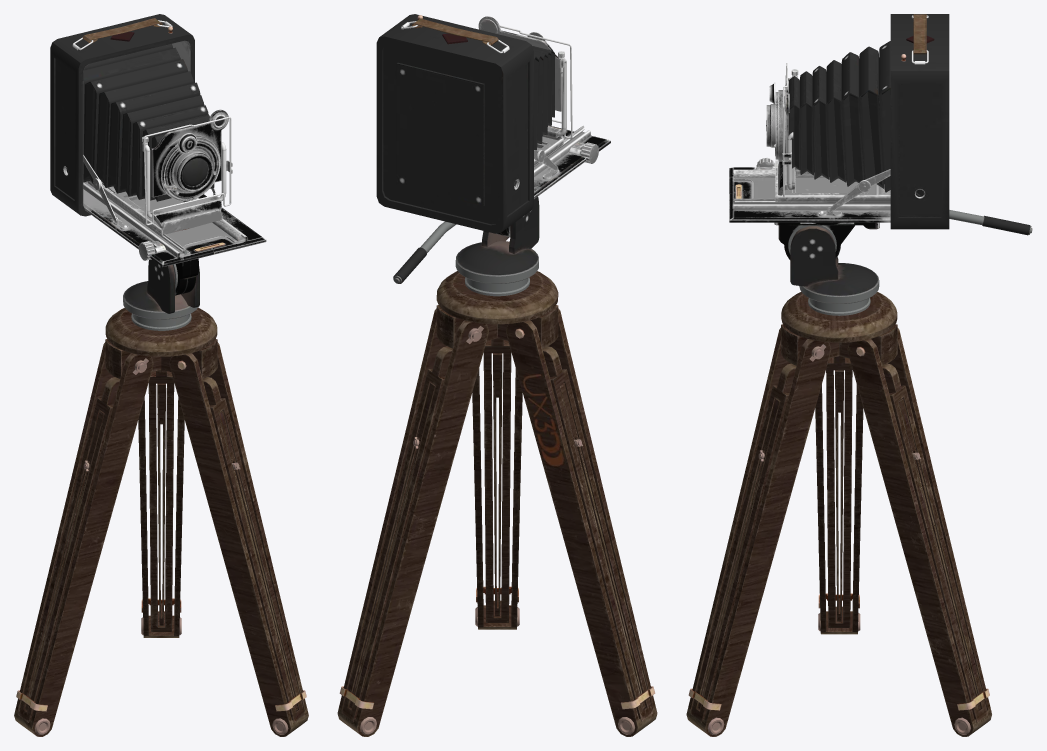
The model's file is camera.glb.
3 renders of one model, left to right at view 1: azimuth 30°, elevation 25°; view 2: azimuth 150°, elevation 25°; view 3: azimuth 270°, elevation 25°, orthographic. The views are drawn at different scales.
Visible parts, largest first — view 1: tripod, camera; view 2: tripod, camera; view 3: tripod, camera.
Part boxes in pixels (x1,y1,x2,y2): tripod: (14,258,308,736); camera: (50,14,266,266); tripod: (337,196,657,736); camera: (376,14,610,233); tripod: (686,210,1032,736); camera: (729,14,949,229).
Bounding box in the file's own units: 2.6 × 7.21 × 3.39.
2 materials, 2 textured.
